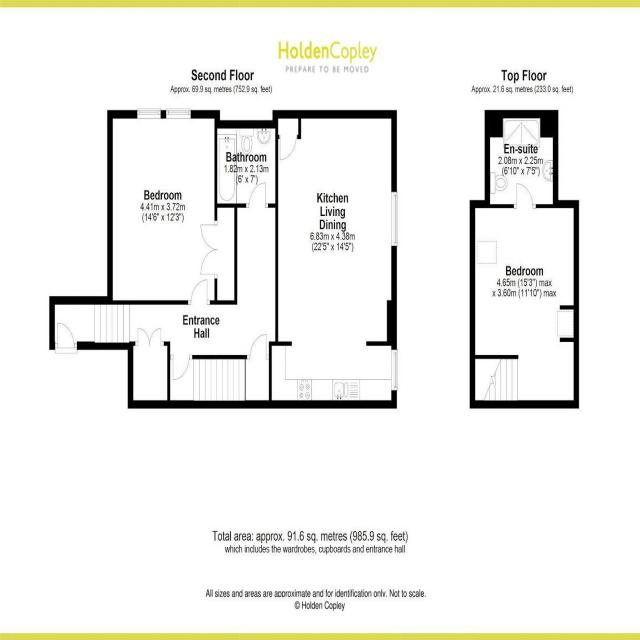DOOR: (54, 323, 77, 354), (245, 181, 269, 208), (513, 182, 536, 209), (188, 278, 210, 306), (170, 355, 193, 381), (246, 334, 269, 360), (278, 134, 298, 161)
DOUBLE DOOR: (198, 217, 218, 279)
ROOM: (269, 110, 399, 409), (107, 107, 238, 305), (470, 181, 579, 409)
WINDOW: (391, 190, 399, 248), (391, 347, 399, 393), (164, 107, 192, 120), (136, 107, 161, 119)
